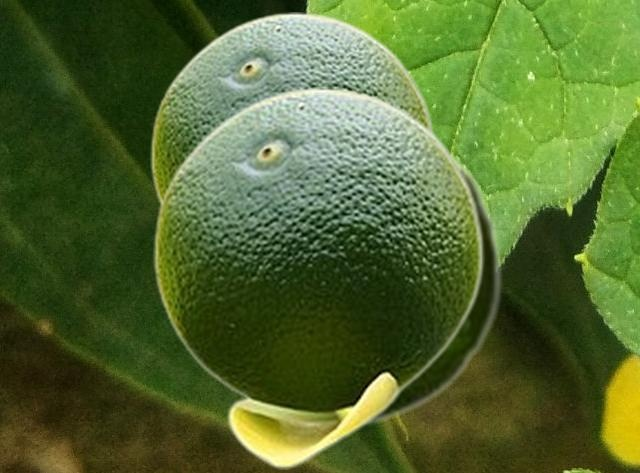calamansi: (153, 87, 483, 468), (150, 12, 435, 206), (367, 132, 503, 426)
